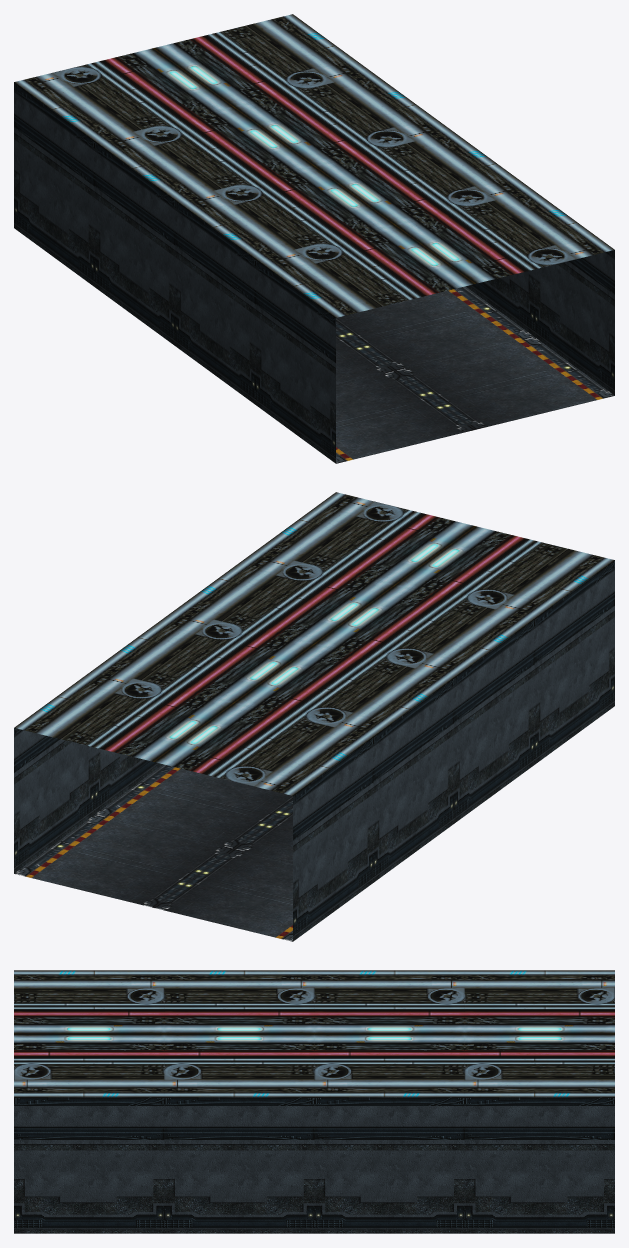
Rendered from pbtunn05.FBX.
3 renders of one model, top to bottom at view 1: azimuth 30°, elevation 25°; view 2: azimuth 150°, elevation 25°; view 3: azimuth 270°, elevation 25°, orthographic. The views are drawn at different scales.
Parts seen in each view (by area): view 1: pbtunn05; view 2: pbtunn05; view 3: pbtunn05.
Boxes of the visible parts, left/top/right/bottom form: pbtunn05: left=14, top=14, right=614, bottom=463; pbtunn05: left=14, top=492, right=614, bottom=941; pbtunn05: left=14, top=970, right=614, bottom=1233.
Size of what is drawn, in the model's own units: 32 by 64 by 16.
